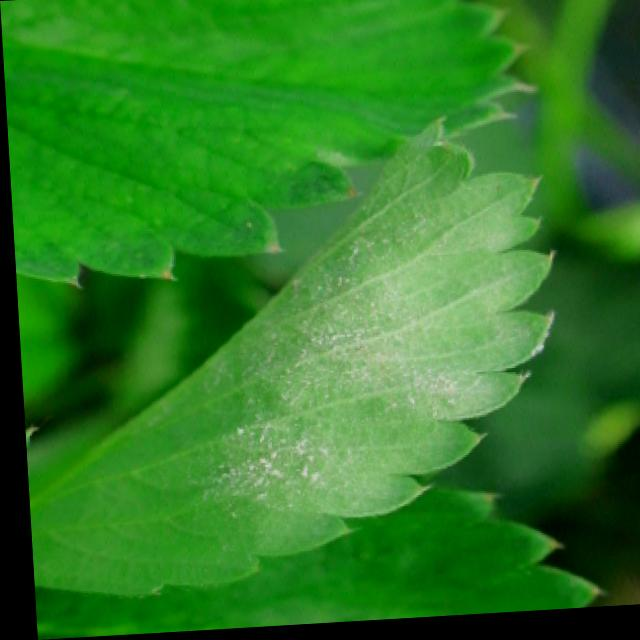Powdery Mildew Leaf: (23, 119, 555, 601)
